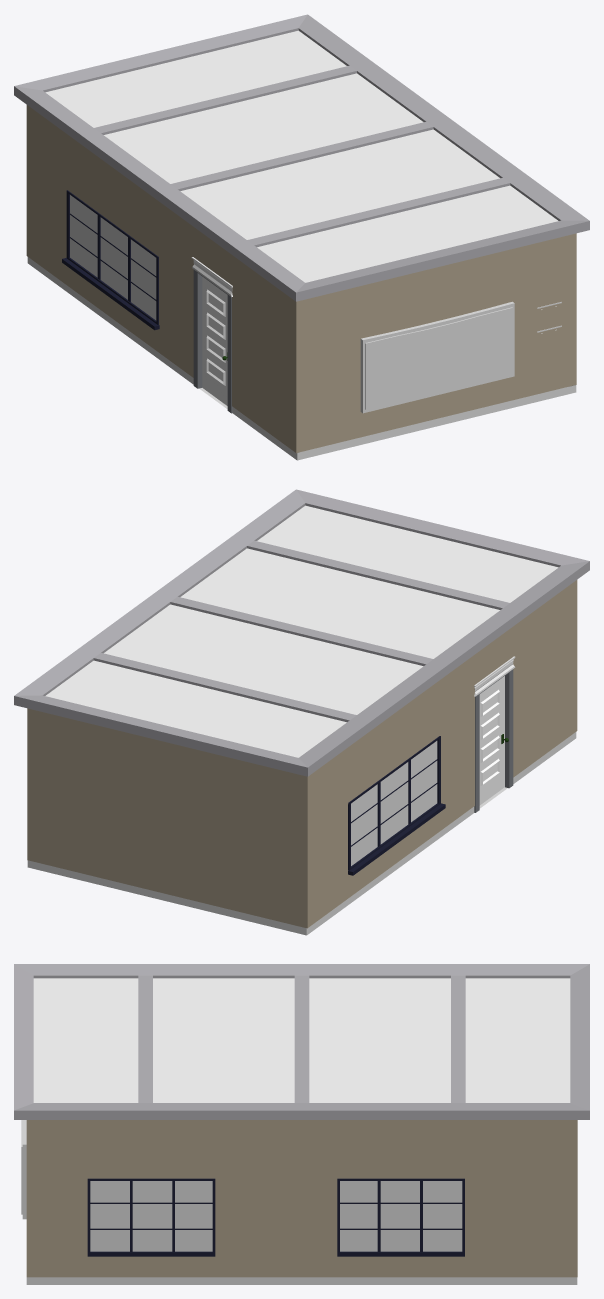
File: classroom.fbx
3 views of the same model, one above another, from view 1: azimuth 30°, elevation 25°; view 2: azimuth 150°, elevation 25°; view 3: azimuth 270°, elevation 25° (orthographic). The views are drawn at different scales.
Visible parts, largest first — view 1: Ceiling, Walls.003, CeilingCofer, Walls.001, Board1, Window3, Floor, Door, BoardFrame1, WindowFrame3, DoorFrame, WindowSill3; view 2: Ceiling, Walls.004, CeilingCofer, Walls.001, Window3, Floor, Door, WindowFrame3, DoorFrame, WindowSill3; view 3: Walls.002, Ceiling, CeilingCofer, Window1, Window2, Floor, WindowFrame1, WindowFrame2, BoardFrame1.
Boxes of the visible parts, left/top/right/bottom form: Ceiling: left=45, top=30, right=558, bottom=282; Walls.003: left=297, top=233, right=576, bottom=452; CeilingCofer: left=14, top=14, right=589, bottom=301; Walls.001: left=26, top=105, right=297, bottom=453; Board1: left=365, top=307, right=512, bottom=409; Window3: left=70, top=195, right=156, bottom=320; Floor: left=27, top=257, right=576, bottom=460; Door: left=202, top=276, right=227, bottom=405; BoardFrame1: left=360, top=301, right=514, bottom=413; WindowFrame3: left=66, top=190, right=158, bottom=324; DoorFrame: left=193, top=270, right=232, bottom=413; WindowSill3: left=62, top=258, right=159, bottom=330; Ceiling: left=45, top=505, right=558, bottom=757; Walls.004: left=27, top=708, right=306, bottom=928; CeilingCofer: left=14, top=489, right=589, bottom=776; Walls.001: left=306, top=580, right=577, bottom=928; Window3: left=351, top=741, right=437, bottom=865; Floor: left=27, top=732, right=576, bottom=935; Door: left=479, top=676, right=504, bottom=805; WindowFrame3: left=348, top=736, right=440, bottom=870; DoorFrame: left=474, top=669, right=513, bottom=812; WindowSill3: left=348, top=803, right=445, bottom=875; Walls.002: left=26, top=1120, right=577, bottom=1277; Ceiling: left=33, top=978, right=570, bottom=1102; CeilingCofer: left=14, top=964, right=589, bottom=1119; Window1: left=90, top=1181, right=212, bottom=1251; Window2: left=340, top=1181, right=462, bottom=1251; Floor: left=26, top=1277, right=577, bottom=1284; WindowFrame1: left=87, top=1178, right=215, bottom=1254; WindowFrame2: left=337, top=1178, right=464, bottom=1254; BoardFrame1: left=22, top=1120, right=26, bottom=1219.
Bounding box in the file's own units: 3748 × 2125 × 6233.
